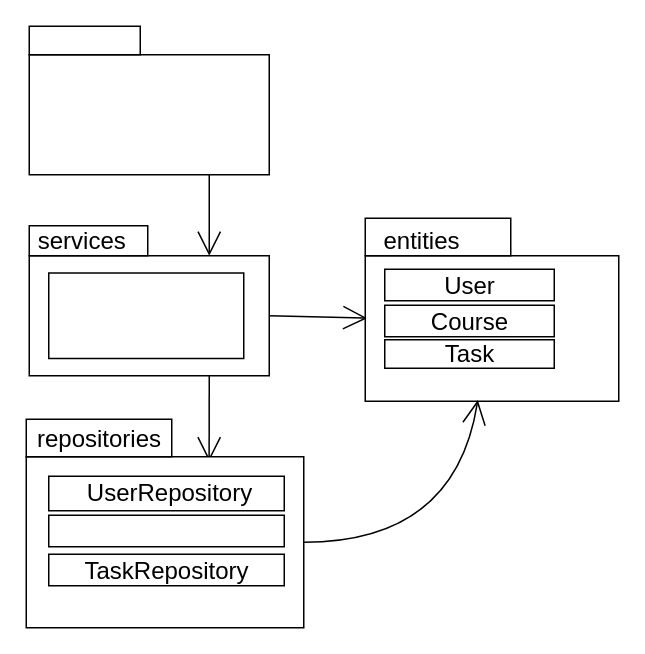
Image size: 645x654. Some labels were removed from this diagram. Each missing label, with the centre of its shape:
CourseRepository: pixel 165 530
StudyAppService: pixel 145 315
ui: pixel 148 114
